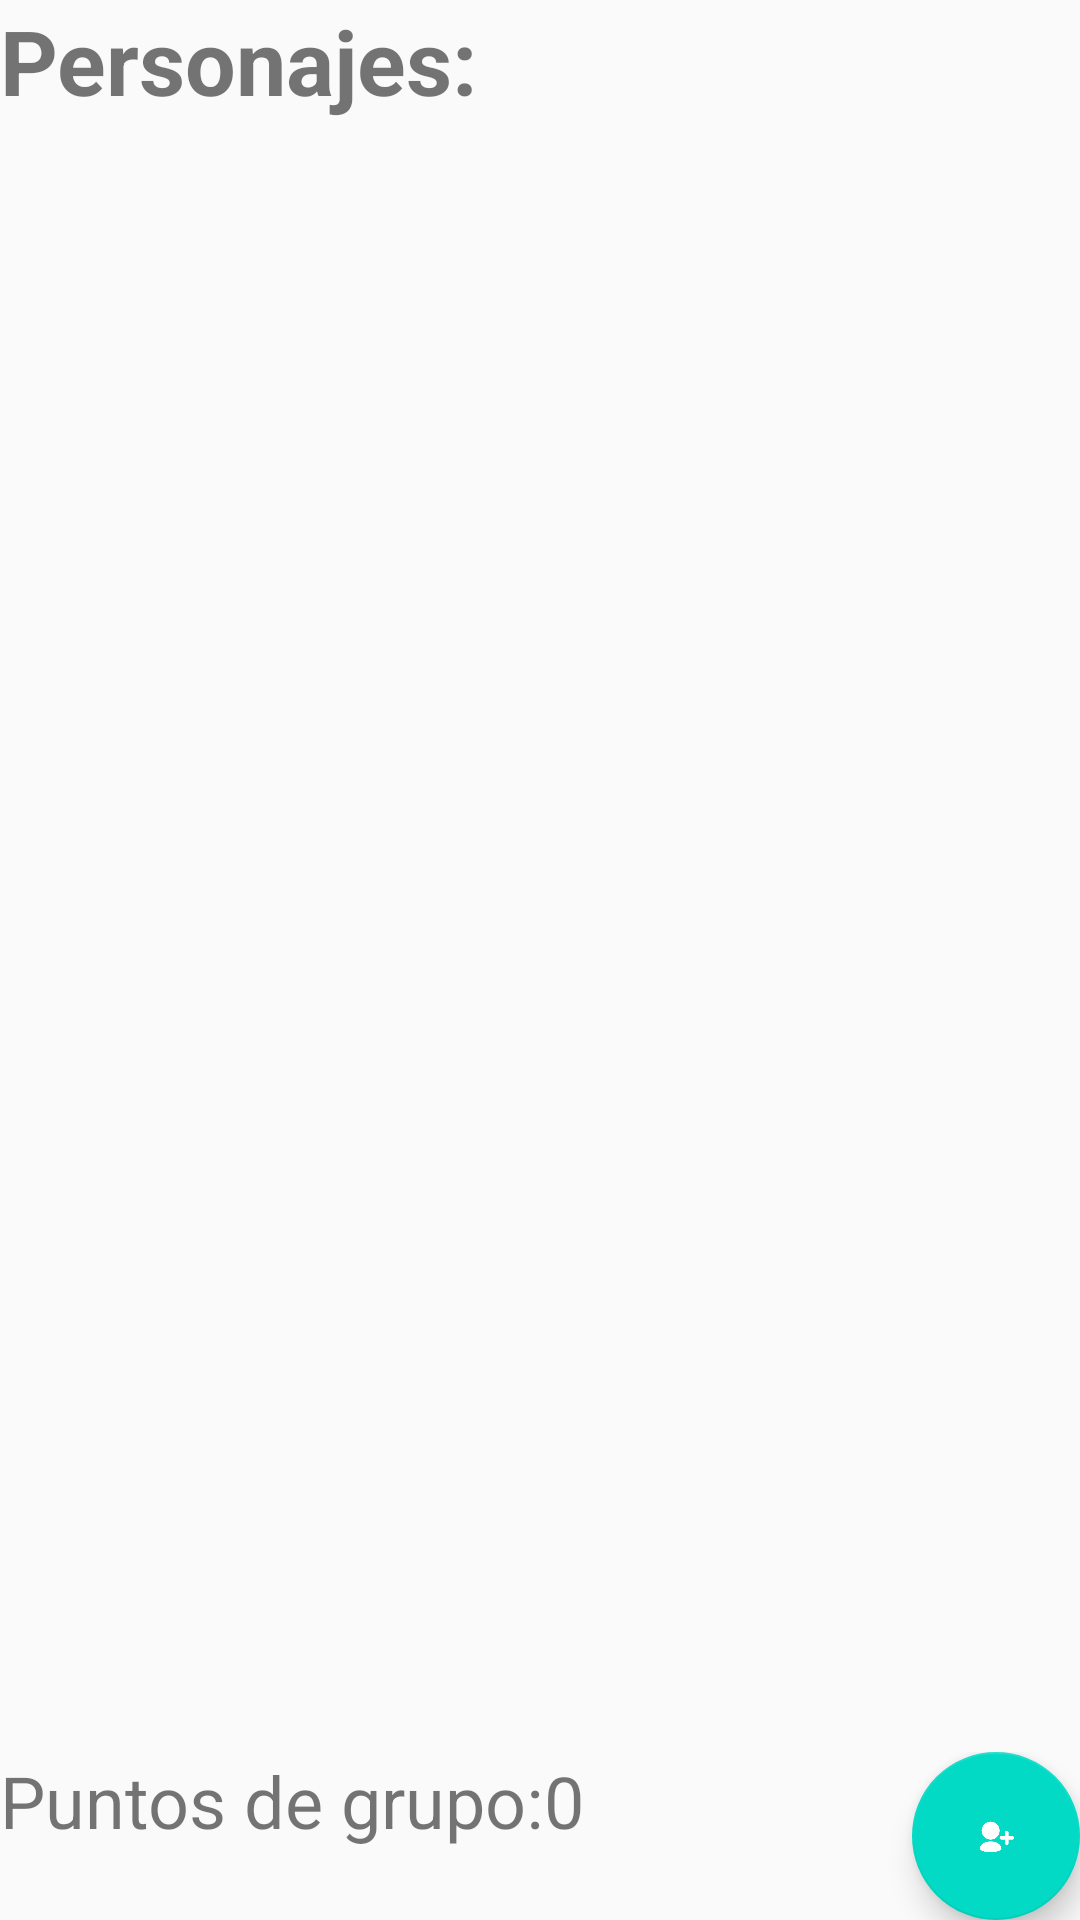

Icon click points for this 1080 × 1920 phone screenshot, format (x=x, y=y):
useradd: (x=996, y=1836)
